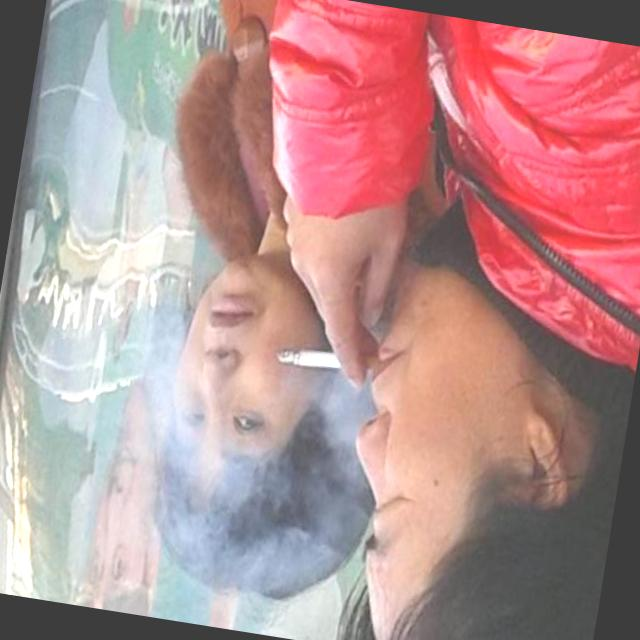smoke: (275, 344, 342, 374)
